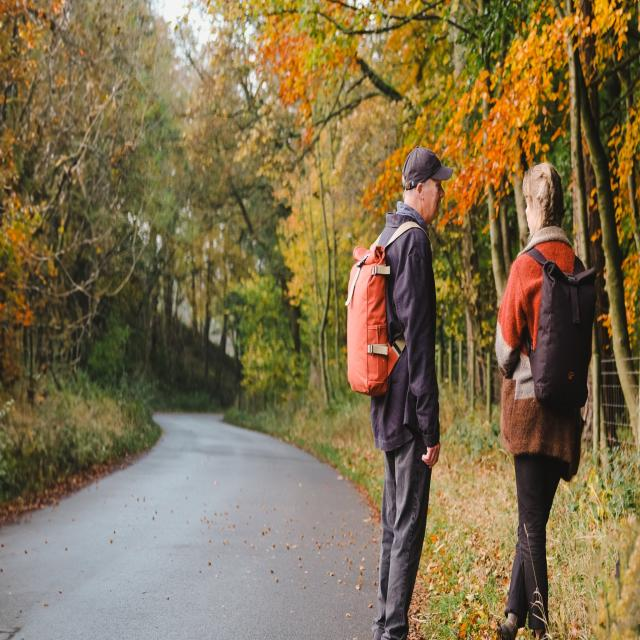backpack: (346, 216, 432, 398), (518, 242, 598, 413)
